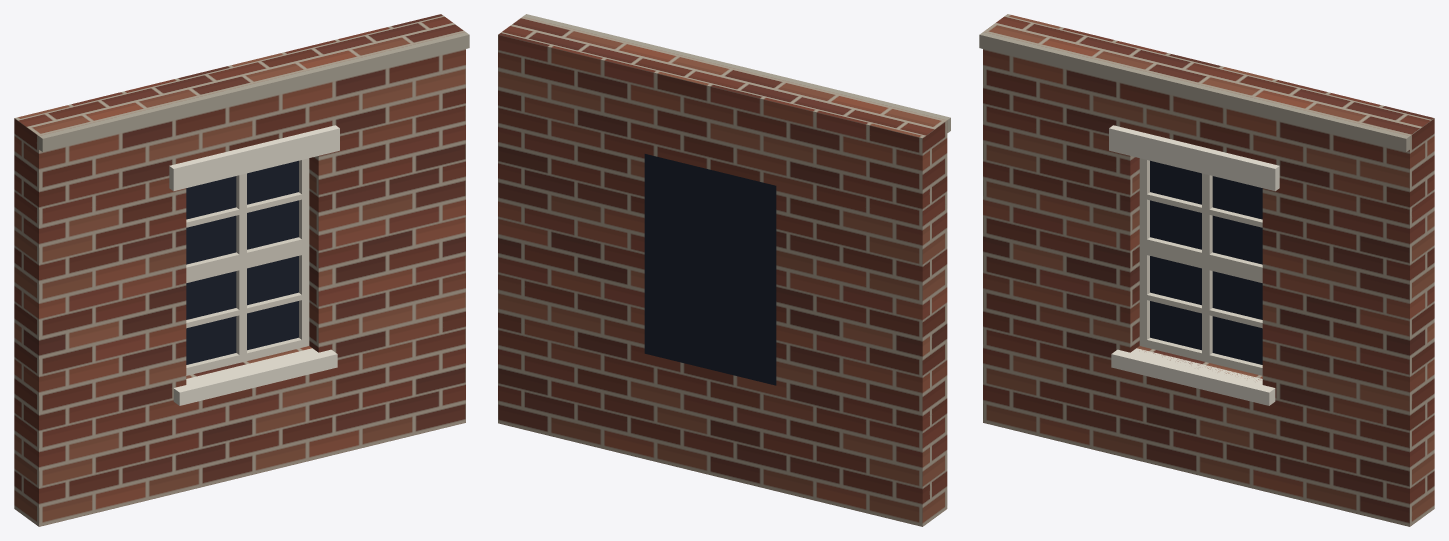
File: ct_win_d.glb
3 views of the same model, side by side, from view 1: azimuth 30°, elevation 25°; view 2: azimuth 150°, elevation 25°; view 3: azimuth 330°, elevation 25° (orthographic).
Visible parts, largest first — view 1: city_ct_win_d; view 2: city_ct_win_d; view 3: city_ct_win_d.
Part boxes in pixels (left/top/right/bottom): city_ct_win_d: left=14, top=14, right=469, bottom=526; city_ct_win_d: left=498, top=14, right=950, bottom=526; city_ct_win_d: left=979, top=14, right=1434, bottom=526.
Bounding box in the file's own units: 4 × 3.5 × 0.5.
2 materials, 2 textured.
